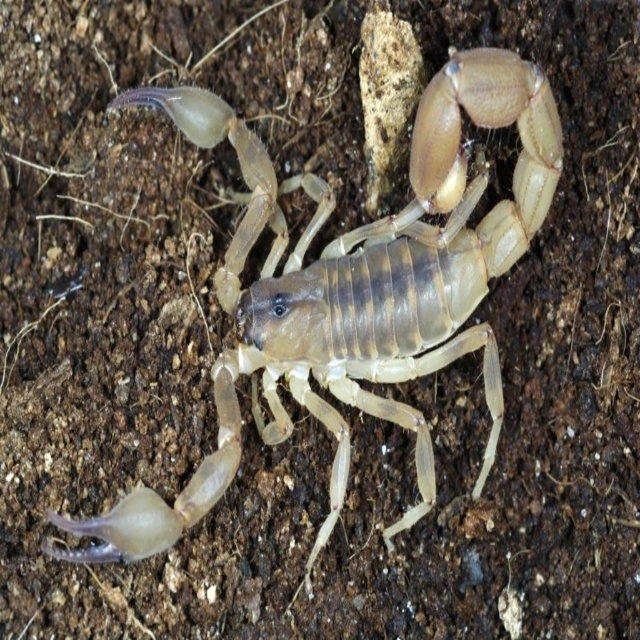Scorpion: (41, 48, 564, 613)
